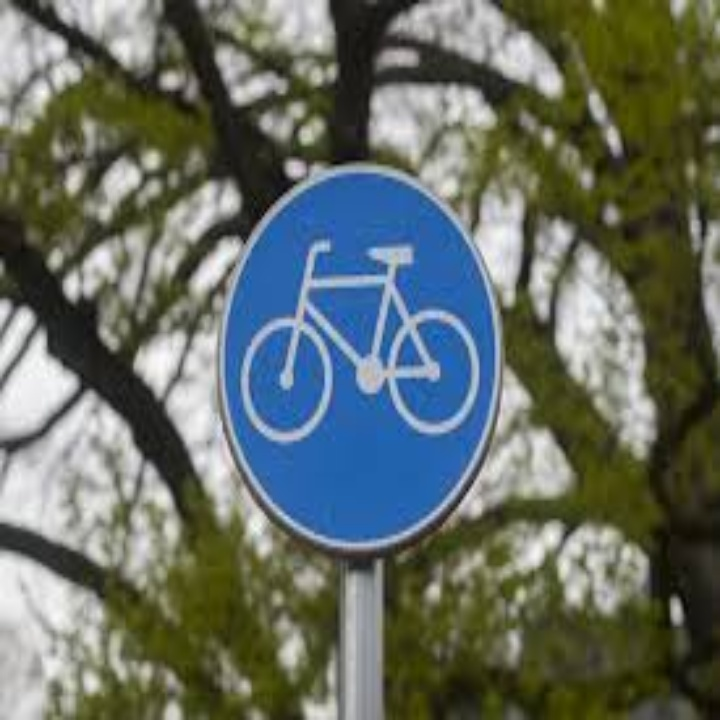bicycle: (215, 201, 499, 485)
